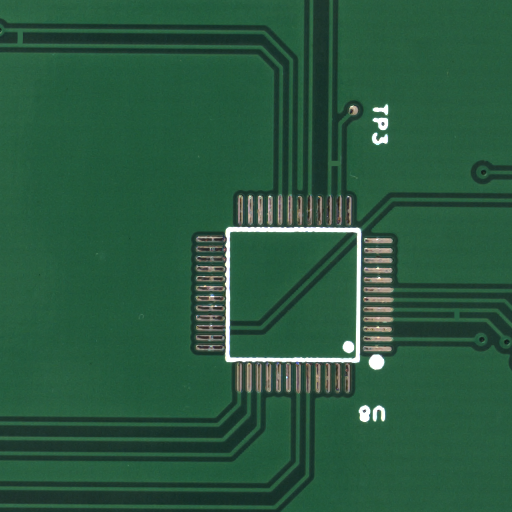Short: (19, 37, 29, 58), (334, 163, 344, 176), (456, 315, 467, 326)
